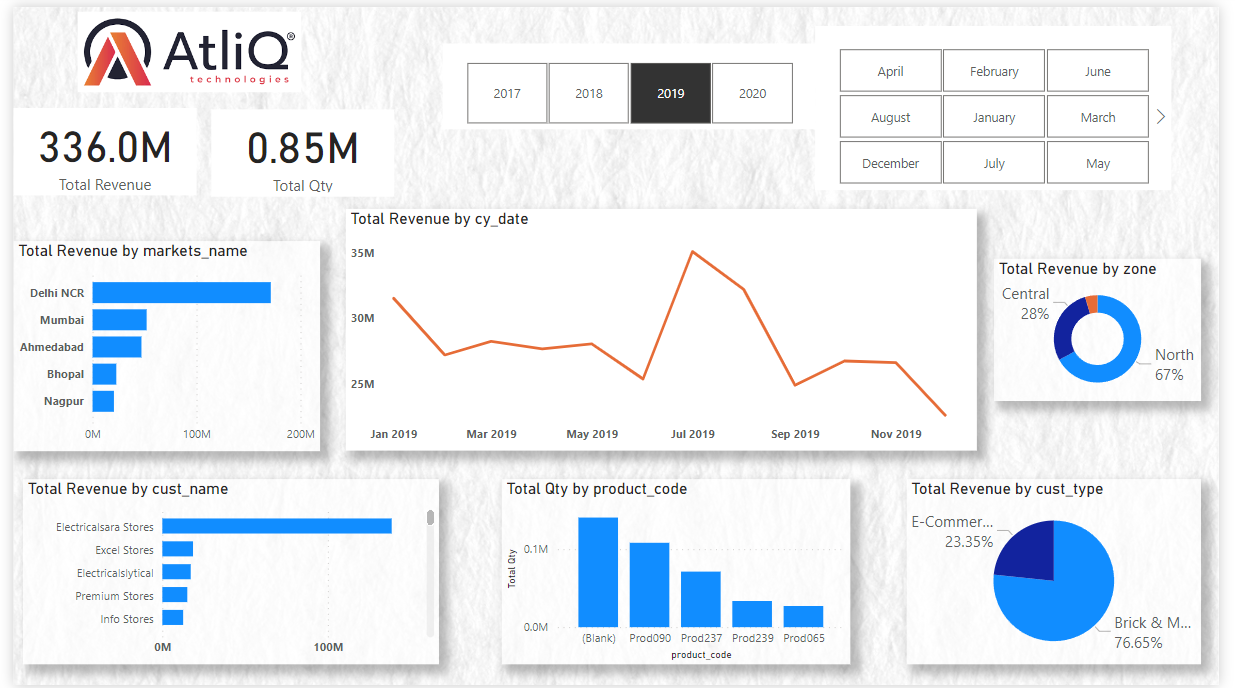

This screenshot's page, from the dashboard's own definition file:
{"tool":"powerbi","page":{"name":"Page 1","canvas":[1280,720],"ordinal":0},"visuals":[{"type":"card","fields":{"Values":["created_measures.Total Revenue"]},"box":[34.3,61.7,193.5,91.9],"z":0},{"type":"card","fields":{"Values":["created_measures.Total Qty"]},"box":[227.8,61.7,193.5,91.9],"z":1000},{"type":"barChart","fields":{"Category":["public markets.markets_name"],"Y":["created_measures.Total Revenue"]},"box":[0,214.1,387,223.7],"z":2000},{"type":"barChart","fields":{"Category":["public customers.cust_name"],"Y":["created_measures.Total Revenue"]},"box":[9.6,500.9,387,207.2],"z":3000},{"type":"slicer","fields":{"Values":["public date.years"]},"box":[412.5,0,398.8,95],"z":4000},{"type":"pieChart","fields":{"Category":["public customers.cust_type"],"Y":["created_measures.Total Revenue"]},"box":[826.2,540,312.5,158.8],"z":5000},{"type":"donutChart","fields":{"Category":["public markets.zone"],"Y":["created_measures.Total Revenue"]},"box":[172.5,348.8,248.8,152.5],"z":6000},{"type":"slicer","fields":{"Values":["public date.month_name"]},"box":[792.5,0,380,173.8],"z":8000},{"type":"lineChart","fields":{"Y":["created_measures.Total Revenue"],"Category":["public date.cy_date"]},"box":[435,181.2,673.8,256.2],"z":9000},{"type":"lineClusteredColumnComboChart","fields":{"Y":["created_measures.Total Qty"],"Category":["public products.product_code"]},"box":[435,540,353.8,150],"z":9001}]}

Visuals, with their boxes in screenshot pixels (x1, y1, x2, y2), scaled from the page's 1280x720 canvas onto the 1235x688 screenshot:
card - created_measures.Total Revenue: [33, 59, 220, 147]
card - created_measures.Total Qty: [220, 59, 406, 147]
barChart - public markets.markets_name x created_measures.Total Revenue: [0, 205, 373, 418]
barChart - public customers.cust_name x created_measures.Total Revenue: [9, 479, 383, 677]
slicer - public date.years: [398, 0, 783, 91]
pieChart - public customers.cust_type x created_measures.Total Revenue: [797, 516, 1099, 668]
donutChart - public markets.zone x created_measures.Total Revenue: [166, 333, 406, 479]
slicer - public date.month_name: [765, 0, 1131, 166]
lineChart - created_measures.Total Revenue x public date.cy_date: [420, 173, 1070, 418]
lineClusteredColumnComboChart - created_measures.Total Qty x public products.product_code: [420, 516, 761, 659]
